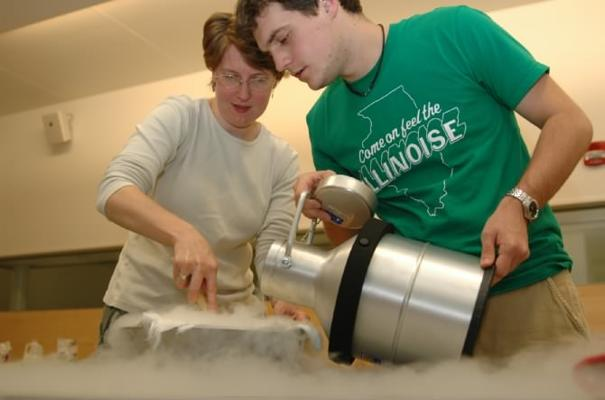person: (237, 2, 597, 364)
